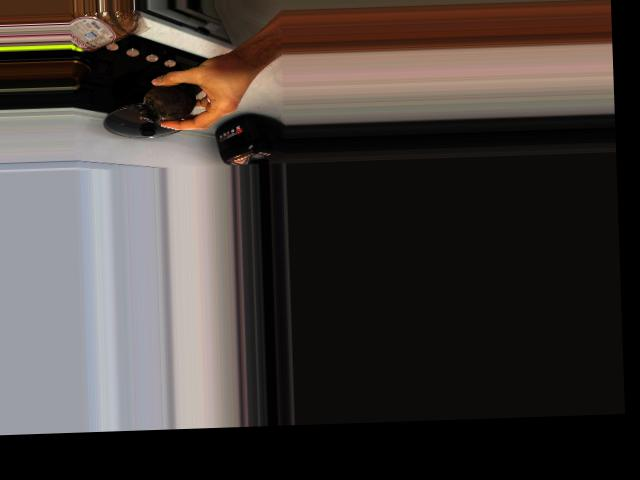beet: (137, 83, 199, 121)
